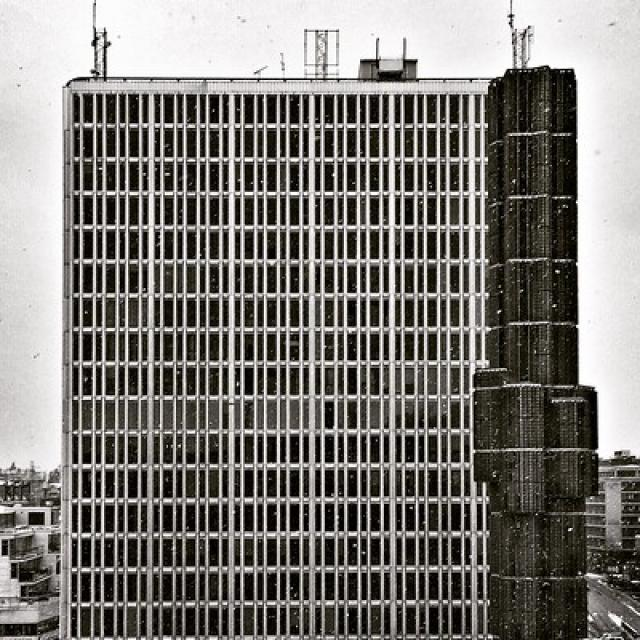Normal_building: (52, 62, 594, 639)
